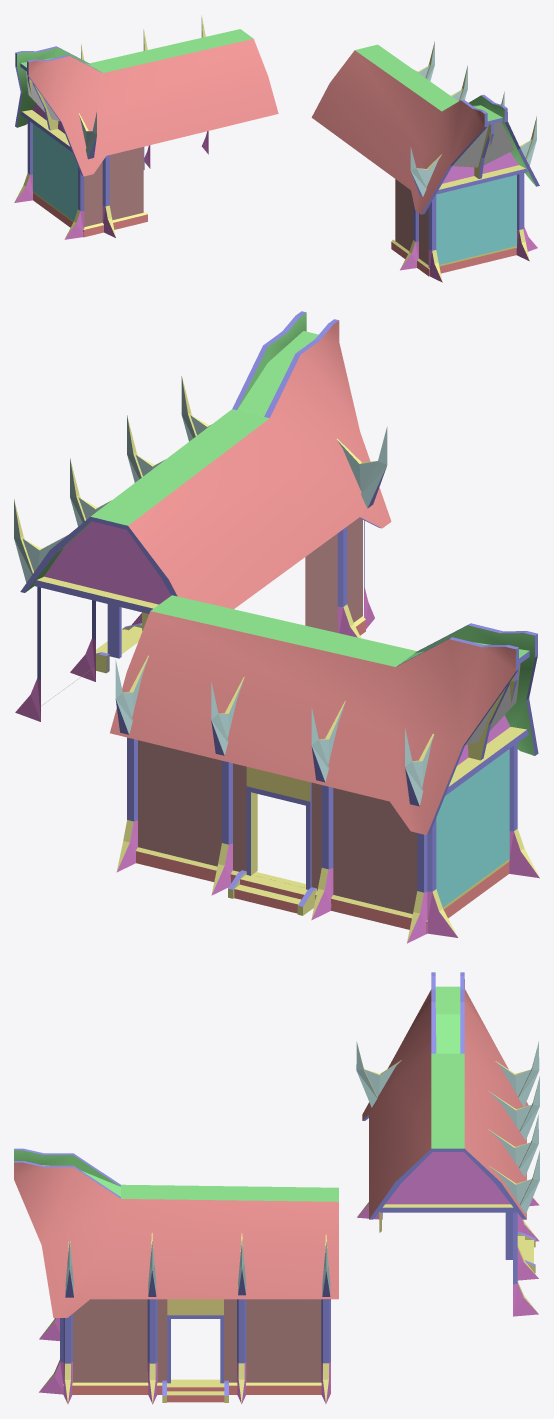
Rendered from O_DE_SH_Set.gltf.
3 renders of one model, top to bottom at view 1: azimuth 30°, elevation 25°; view 2: azimuth 150°, elevation 25°; view 3: azimuth 270°, elevation 25°, orthographic. The views are drawn at different scales.
Parts seen in each view (by area): view 1: O_DE_SH_Set; view 2: O_DE_SH_Set; view 3: O_DE_SH_Set.
Boxes of the visible parts, x1,y1,x2,y2 form: O_DE_SH_Set: [14, 15, 539, 282]; O_DE_SH_Set: [14, 311, 539, 943]; O_DE_SH_Set: [14, 972, 539, 1404].
Size of the model in its own units: 8.88 by 3.92 by 8.88.
